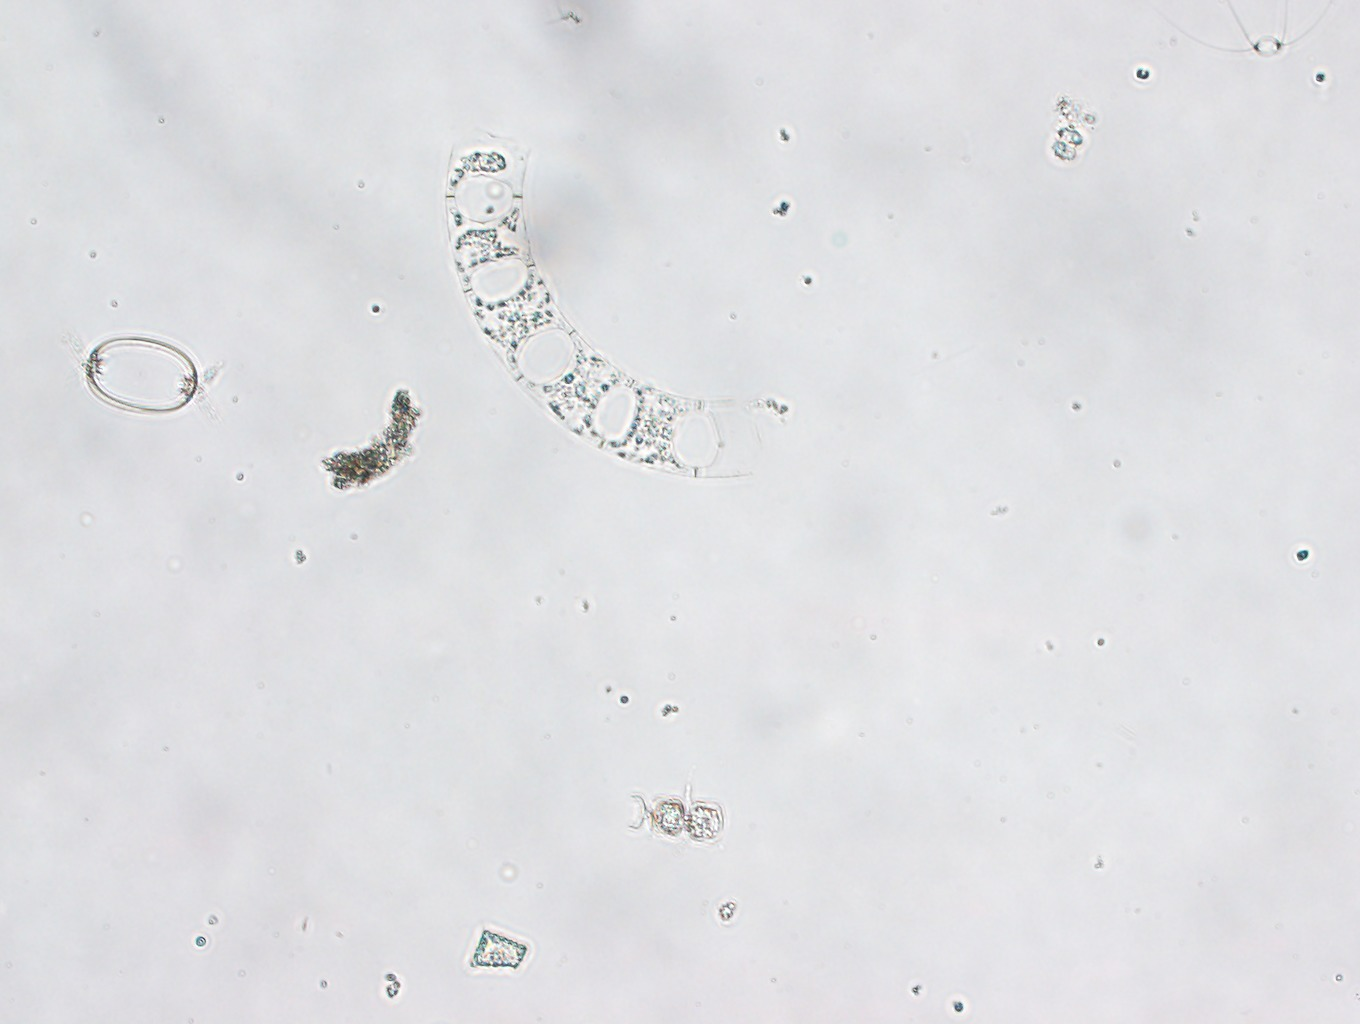chaetoceros: (1150, 1, 1337, 57)
eucampia: (443, 128, 783, 478)
